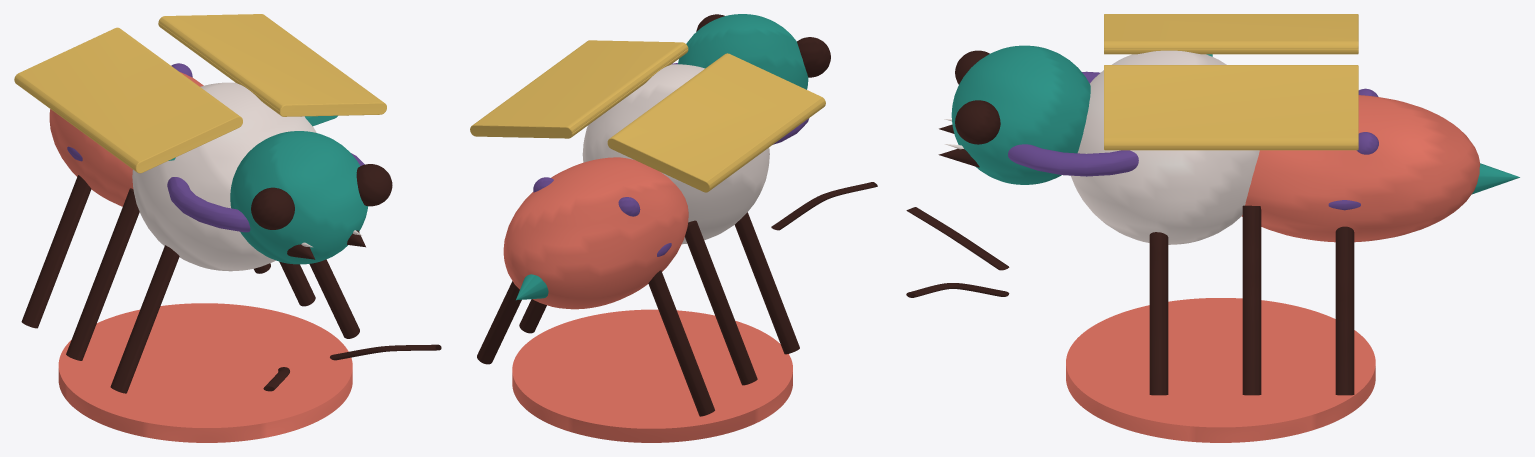
Rendered from 0020_昆虫图鉴_椿象.glb.
The picture shows the model from 3 angles, left to right: view 1: azimuth 30°, elevation 25°; view 2: azimuth 150°, elevation 25°; view 3: azimuth 270°, elevation 25°; orthographic projection. The views are drawn at different scales.
Parts seen in each view (by area): view 1: card_0020; view 2: card_0020; view 3: card_0020.
Part boxes in pixels (bbox=[...]): card_0020: bbox=[14, 14, 441, 442]; card_0020: bbox=[470, 14, 877, 442]; card_0020: bbox=[906, 14, 1519, 442].
Bounding box in the file's own units: 0.8535 × 1 × 1.71.
